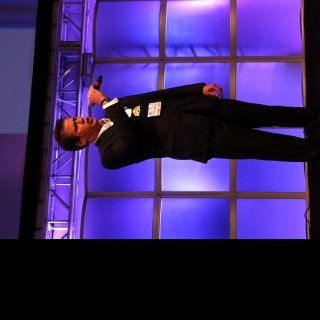without_mask: (64, 114, 99, 140)
